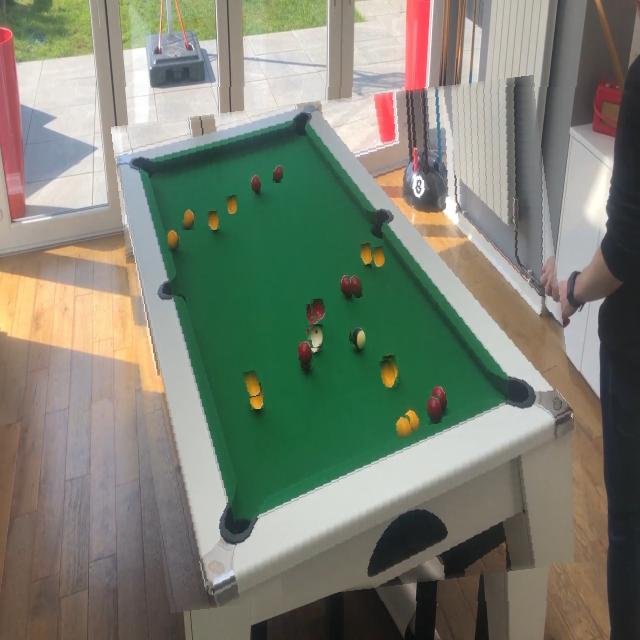Ball: (425, 396, 442, 424), (382, 360, 398, 388), (245, 371, 260, 398), (395, 416, 412, 439), (352, 326, 366, 352), (349, 275, 363, 298), (310, 324, 323, 348), (312, 299, 326, 321), (300, 340, 312, 365), (183, 209, 196, 230), (373, 246, 385, 267), (226, 195, 237, 214), (274, 165, 283, 183)
Billiard table: (126, 87, 580, 601)
